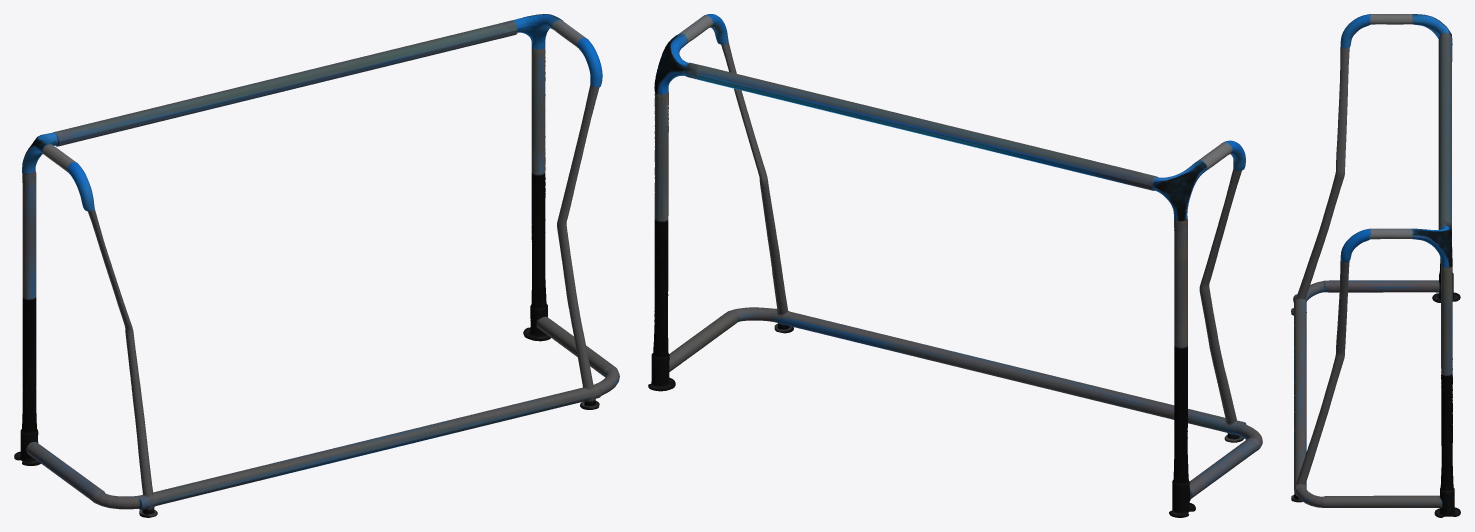
The model's file is goalFrame.glb.
The picture shows the model from 3 angles, left to right: view 1: azimuth 30°, elevation 25°; view 2: azimuth 150°, elevation 25°; view 3: azimuth 270°, elevation 25°; orthographic projection. The views are drawn at different scales.
Visible parts, largest first — view 1: world; view 2: world; view 3: world.
Boxes of the visible parts, left/top/right/bottom form: world: left=14, top=14, right=619, bottom=517; world: left=648, top=14, right=1262, bottom=517; world: left=1291, top=14, right=1460, bottom=517.
Bounding box in the file's own units: 0.9997 × 0.5953 × 0.3211.
1 material, 1 textured.
